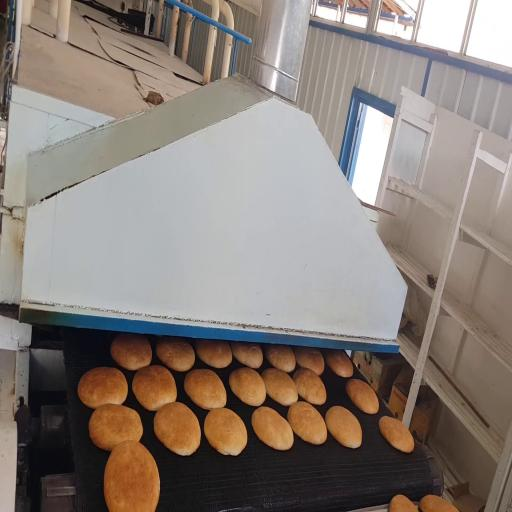bread: (104, 441, 159, 511), (89, 404, 142, 451), (154, 403, 201, 456), (204, 408, 247, 455), (78, 367, 127, 408), (132, 366, 176, 411), (252, 407, 293, 450), (184, 369, 226, 409), (287, 402, 327, 444), (326, 406, 362, 448), (111, 334, 152, 370), (229, 368, 266, 406), (262, 368, 298, 406), (156, 337, 195, 371), (379, 417, 414, 453), (293, 368, 326, 404), (346, 379, 379, 414), (196, 340, 232, 368), (294, 347, 324, 375), (265, 345, 295, 372), (231, 342, 262, 368), (326, 350, 353, 377), (420, 495, 457, 511), (389, 495, 417, 511)
